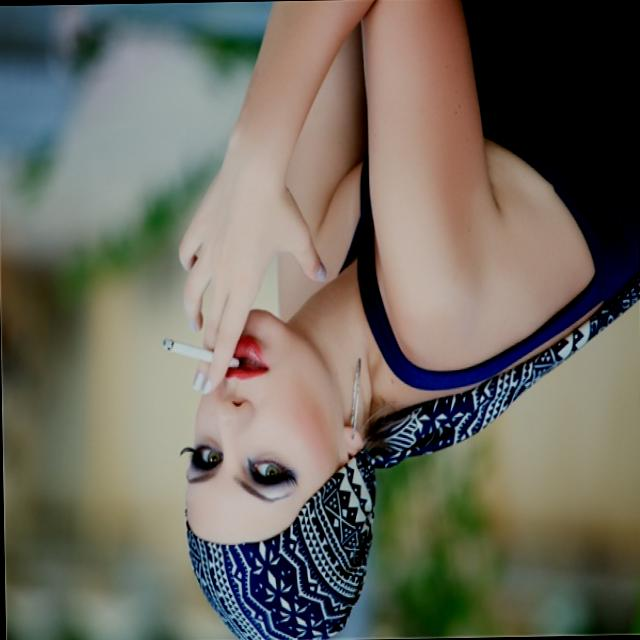cigarette: (162, 329, 245, 371)
